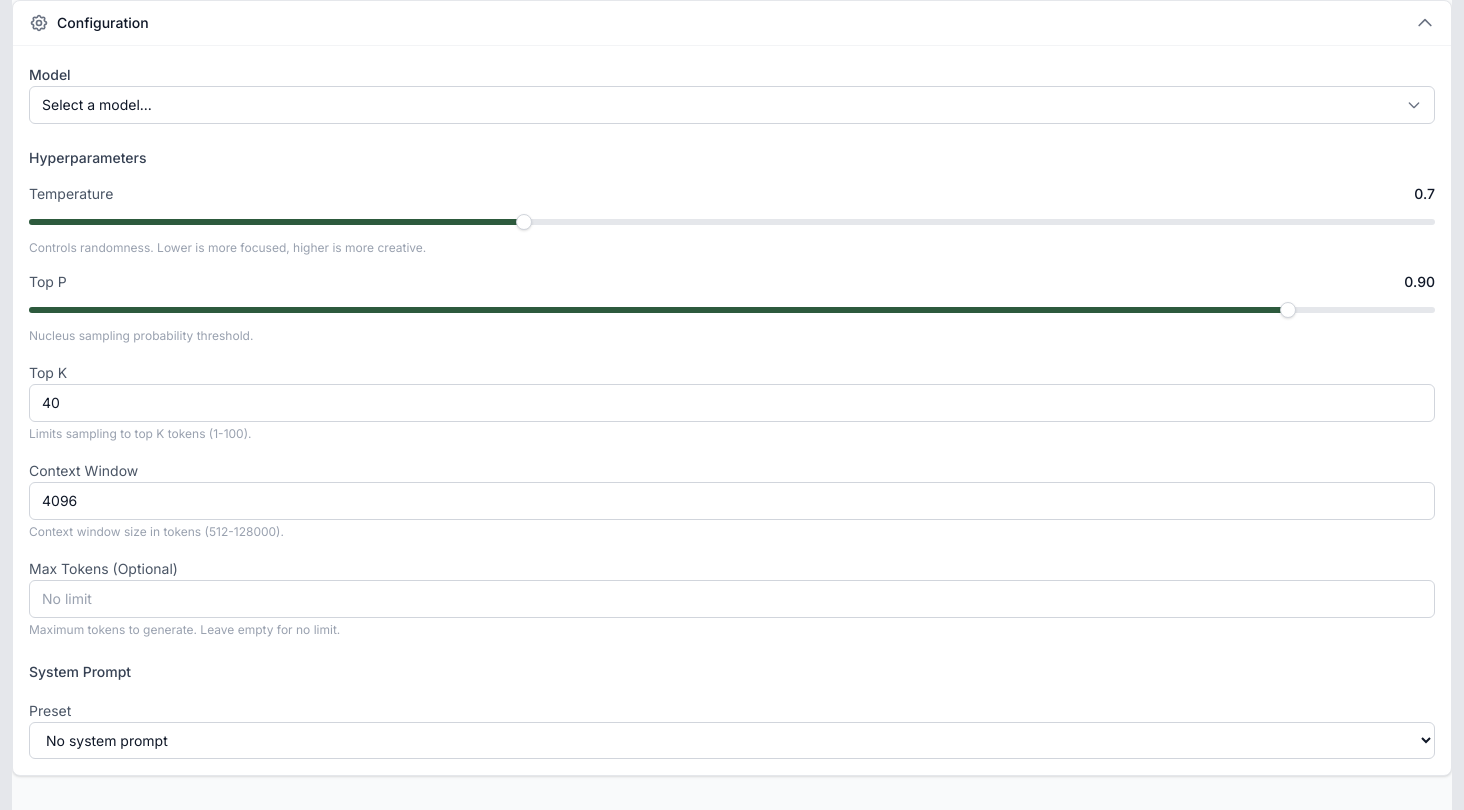
Test case: ConfigPanel › system prompt section › shows prompt preview when a preset is selected
This screenshot has width=1464, height=810.
Select "code-assistant" in the dropdown with test id "config-panel-system-prompt-select". click: x=732, y=740
box: [29, 722, 1435, 759]
(page scrolled)
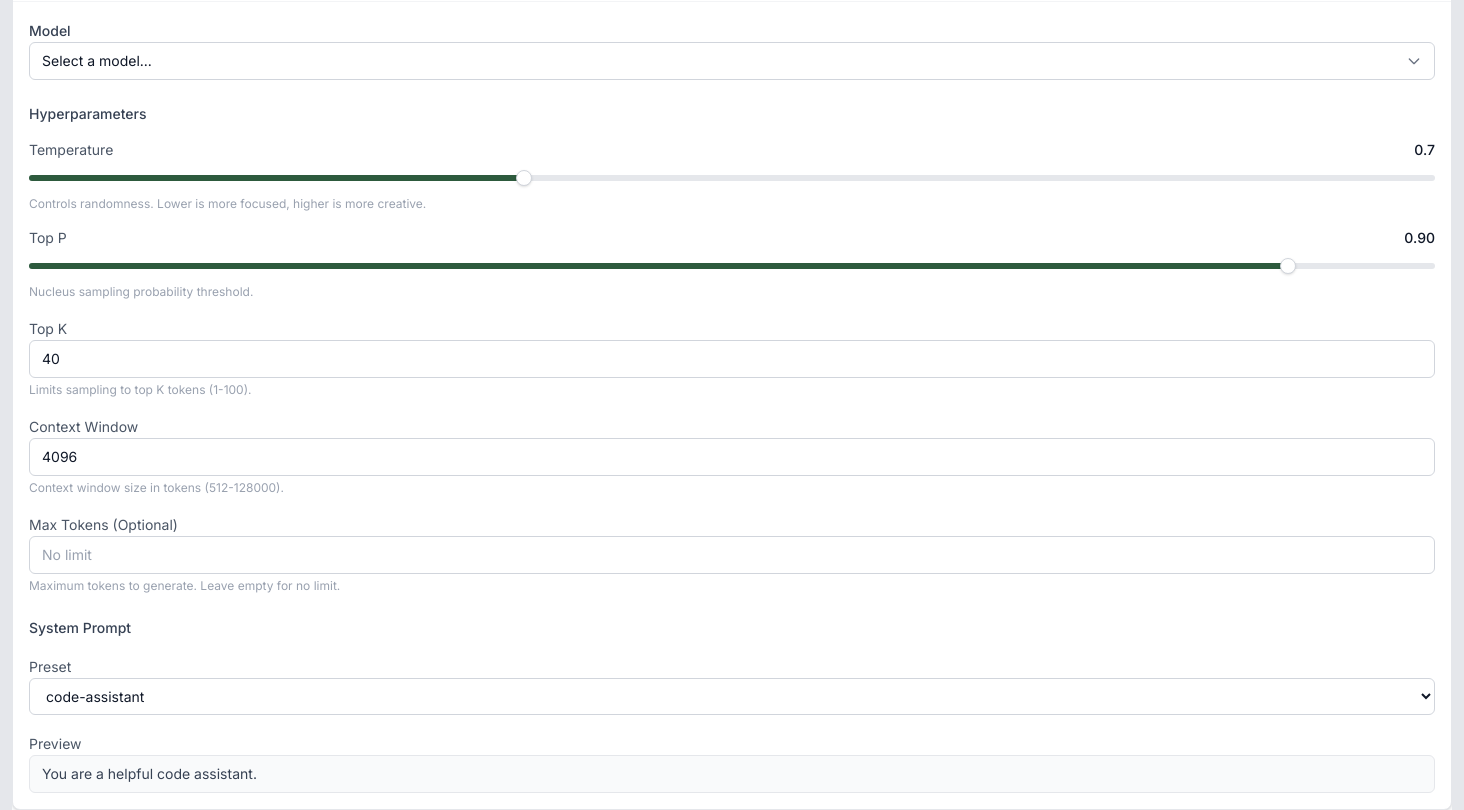
Result: the element with test id "config-panel-prompt-preview" is shown at [29, 731, 1435, 793]
Result: the text "You are a helpful code assistant." is shown at [29, 755, 1435, 793]
